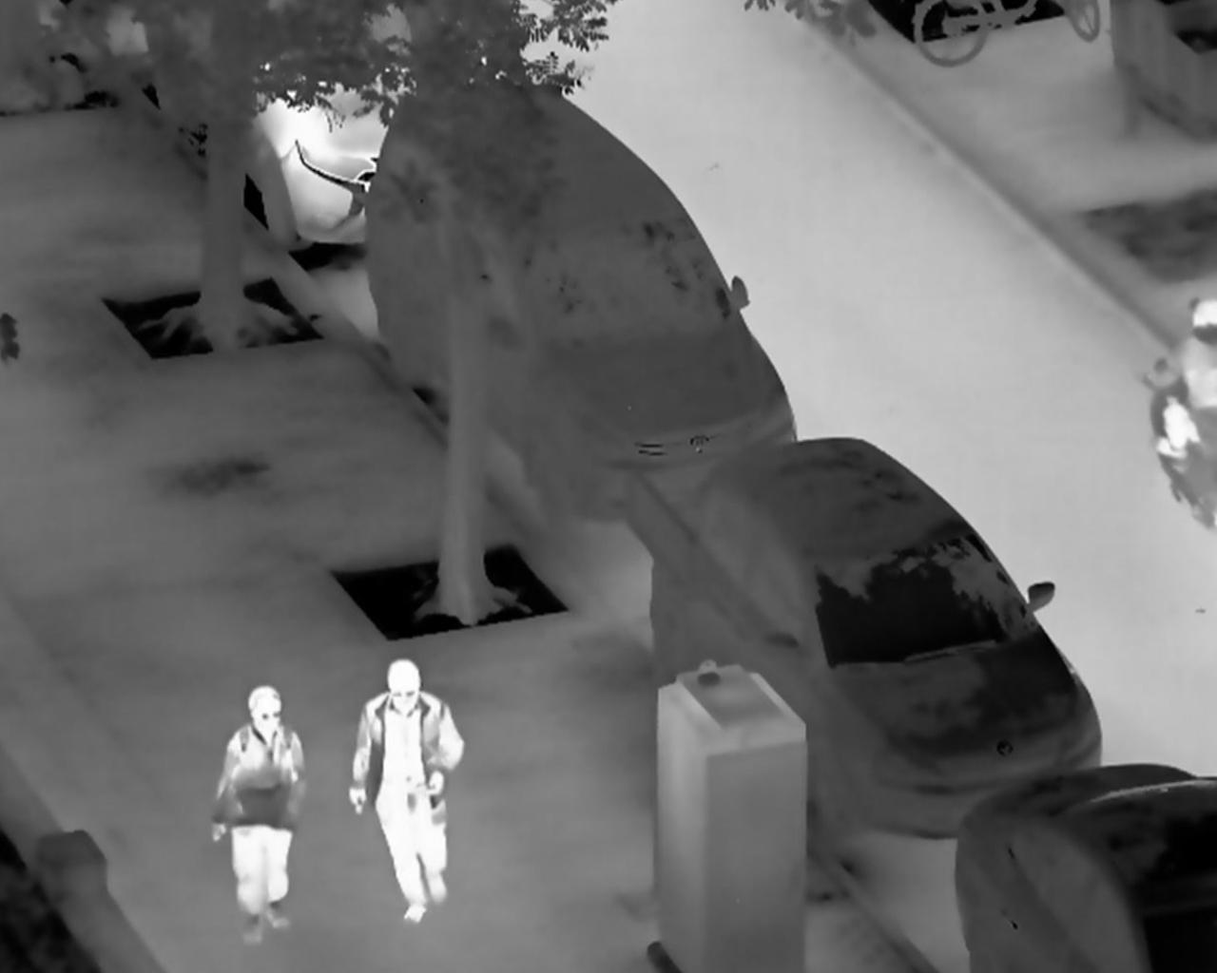person: (348, 658, 465, 925), (210, 682, 299, 949), (1147, 294, 1217, 460)
